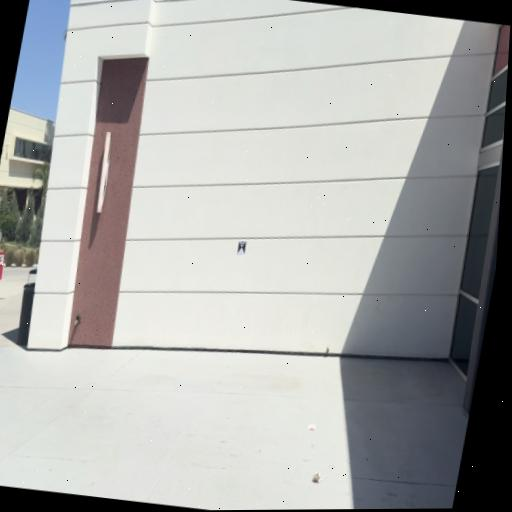target0: (237, 240, 247, 255)
